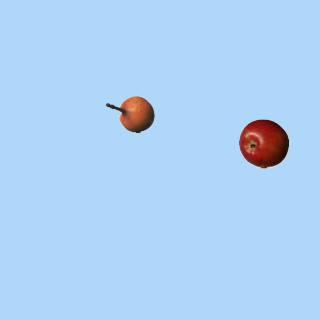Apple Braeburn: (238, 118, 288, 168)
Granadilla: (104, 89, 154, 139)
